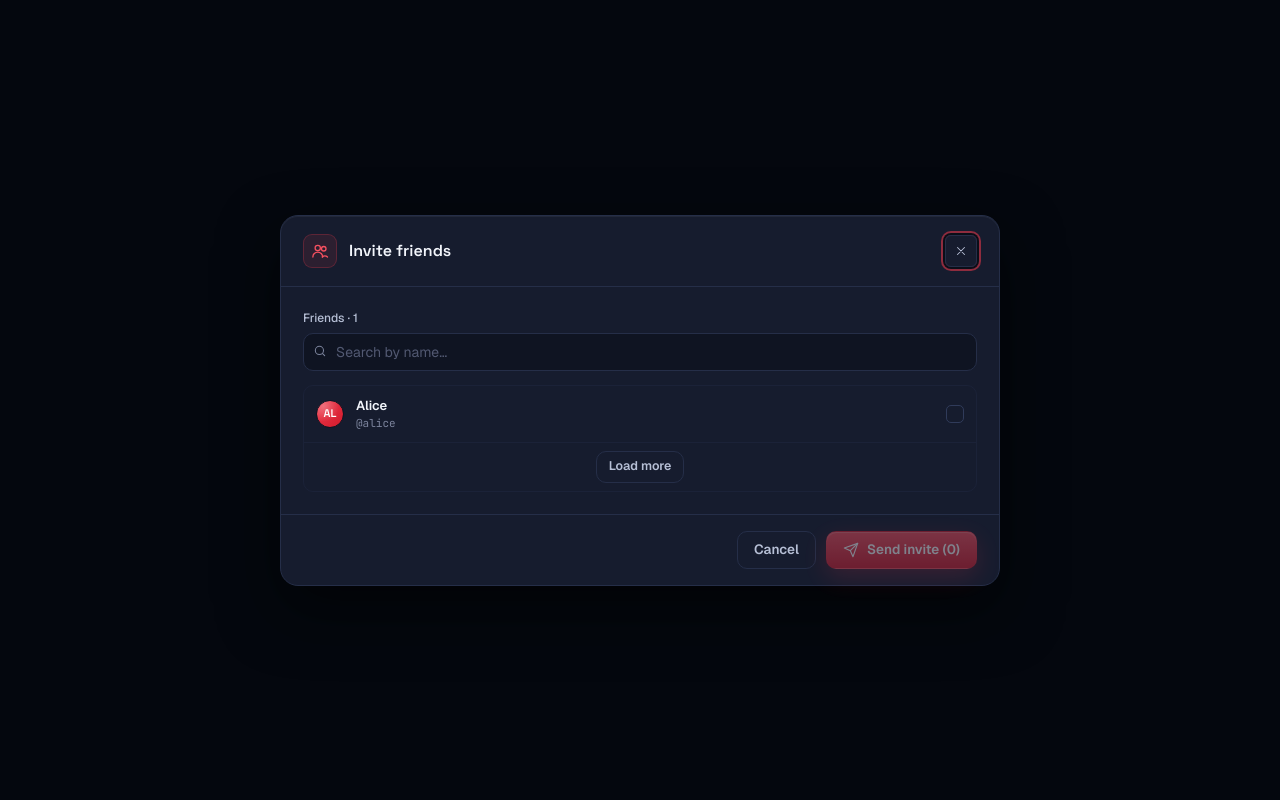
InviteFriendModal › load more button traverses via the keyset cursor
Click the button "Load more".
click(640, 466)  # box [596,450,684,482]
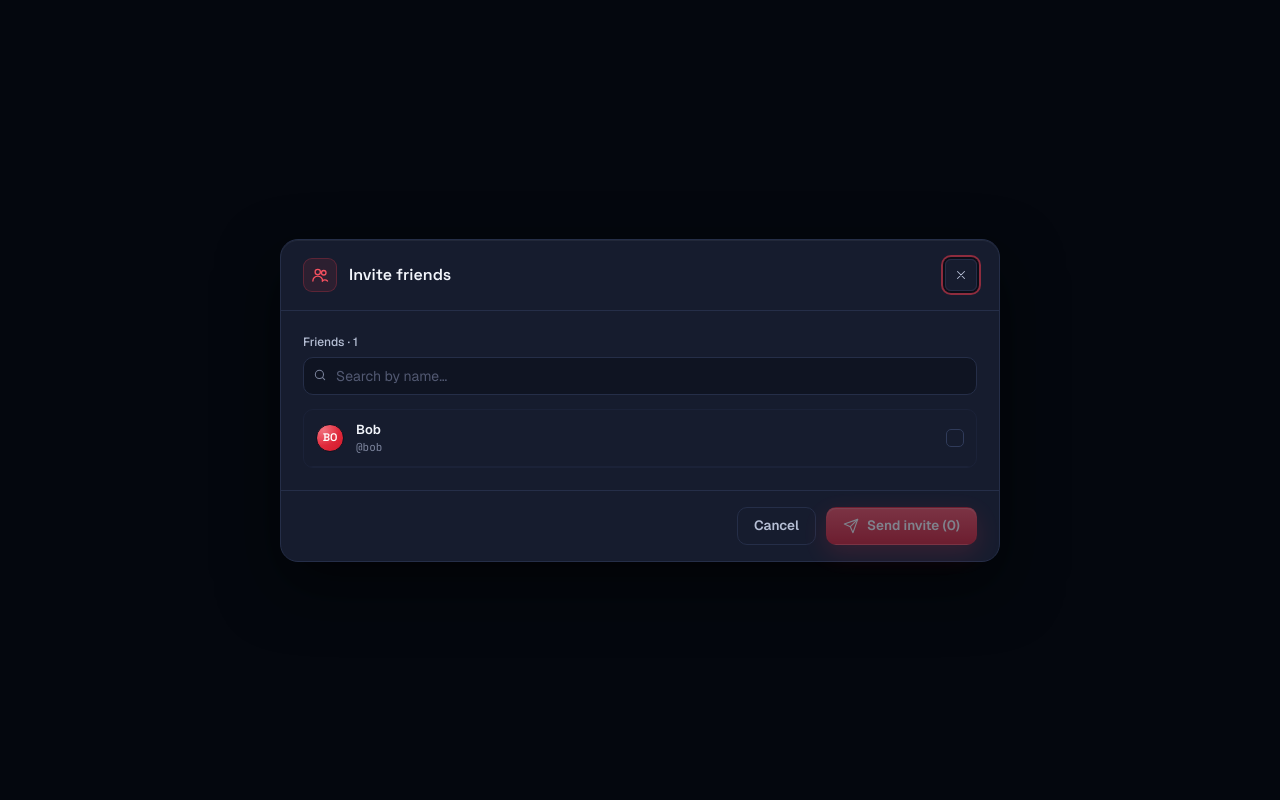
Expected: the text "Bob" is shown, [356,420,381,438]
